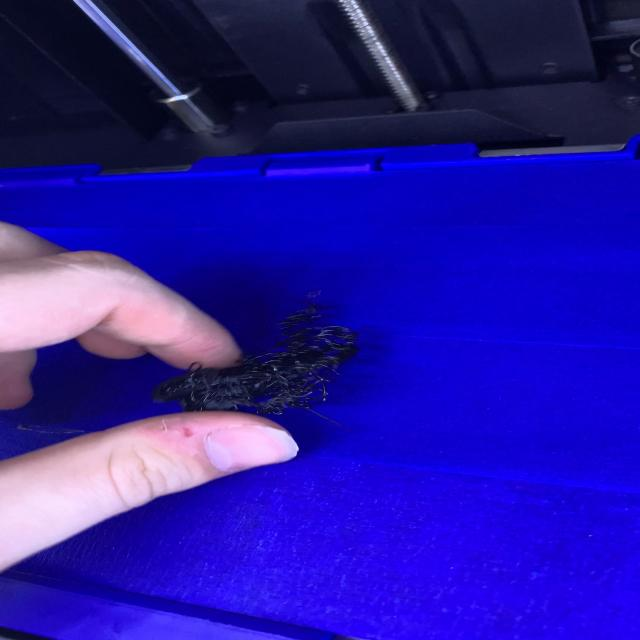spaghetti: (150, 288, 360, 426)
